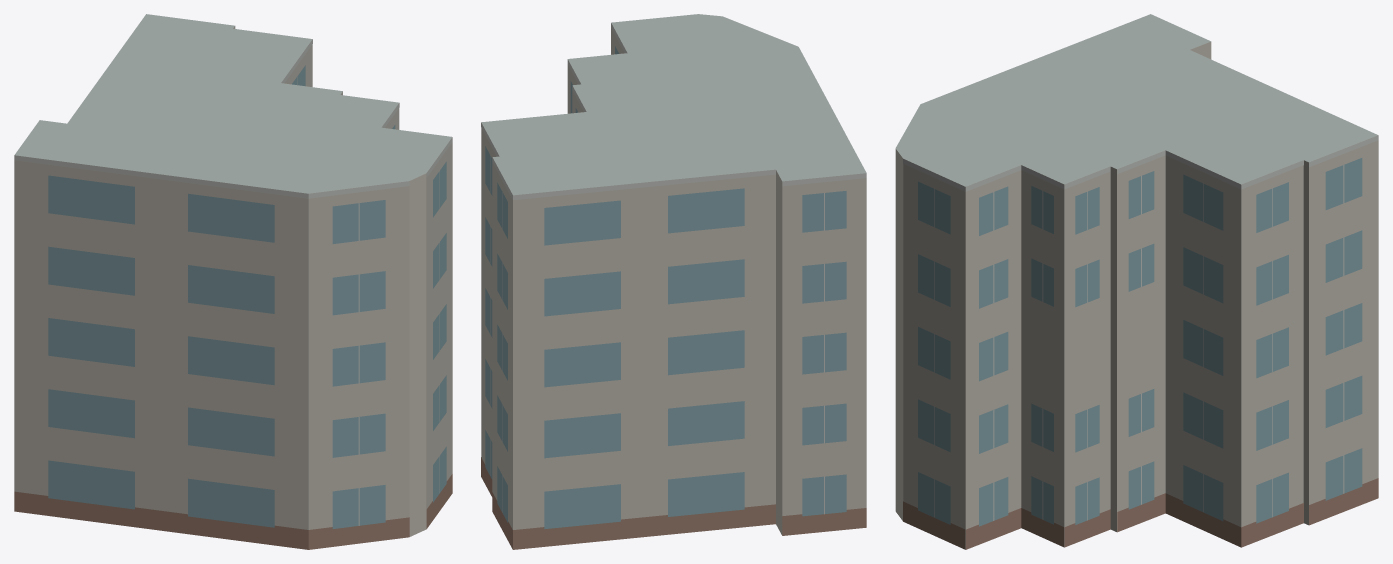
File: survey-upis-32593067.glb
The picture shows the model from 3 angles, left to right: view 1: azimuth 30°, elevation 25°; view 2: azimuth 150°, elevation 25°; view 3: azimuth 270°, elevation 25°; orthographic projection. The views are drawn at different scales.
Parts seen in each view (by area): view 1: survey-upis-32593067.tmp; view 2: survey-upis-32593067.tmp; view 3: survey-upis-32593067.tmp.
Boxes of the visible parts, <box> form: survey-upis-32593067.tmp: <box>14,14,452,549</box>; survey-upis-32593067.tmp: <box>481,14,866,549</box>; survey-upis-32593067.tmp: <box>895,14,1378,549</box>.
Bounding box in the file's own units: 17.88 × 17.5 × 21.11.
